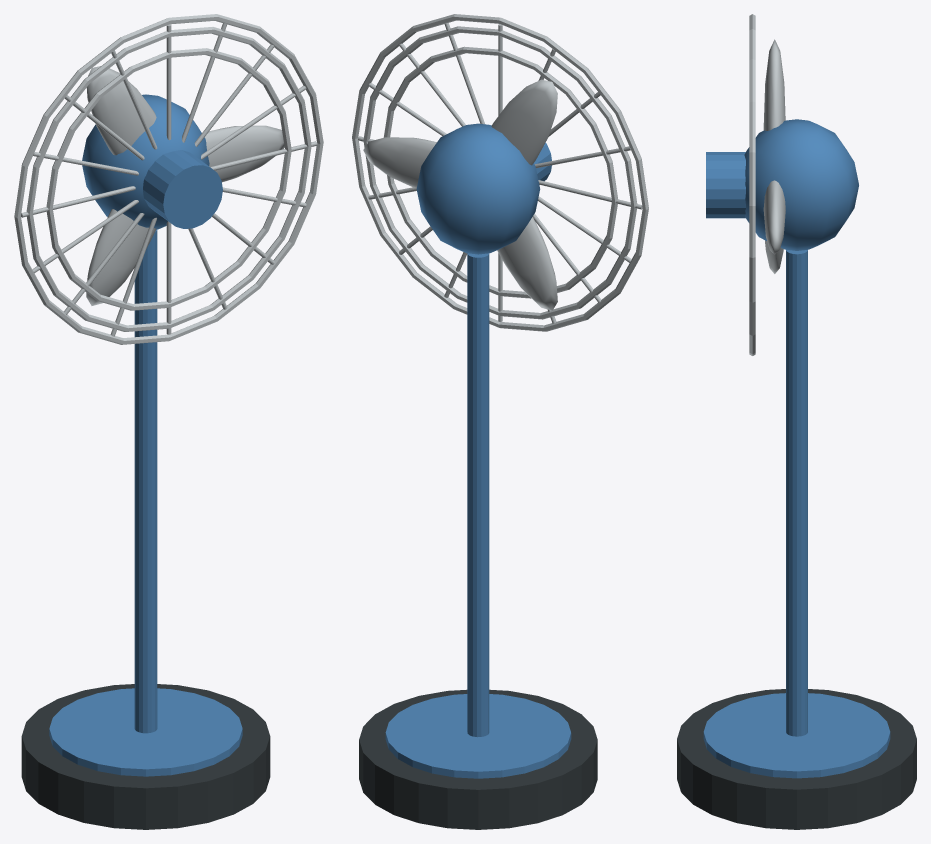
Rendered from standing_fan_blue.glb.
3 views of the same model, side by side, from view 1: azimuth 30°, elevation 25°; view 2: azimuth 150°, elevation 25°; view 3: azimuth 270°, elevation 25° (orthographic). The views are drawn at different scales.
Parts seen in each view (by area): view 1: weighted base, base trim, telescopic pole, wire cage.002, wire cage.001, fan motor, wire cage, hub, blade.001, blade.002, blade, guard spoke.004 (+7 smaller); view 2: weighted base, fan motor, base trim, telescopic pole, wire cage.002, wire cage.001, wire cage, blade.001, blade.002, blade; view 3: weighted base, base trim, telescopic pole, fan motor, hub, wire cage.002, blade.001, blade.
Part boxes in pixels (x1=…): weighted base: x1=21, y1=684, x2=270, y2=829; base trim: x1=49, y1=688, x2=242, y2=776; telescopic pole: x1=134, y1=229, x2=157, y2=733; wire cage.002: x1=14, y1=14, x2=323, y2=344; wire cage.001: x1=26, y1=27, x2=311, y2=331; fan motor: x1=82, y1=94, x2=209, y2=229; wire cage: x1=46, y1=48, x2=291, y2=310; hub: x1=143, y1=150, x2=222, y2=228; blade.001: x1=86, y1=66, x2=156, y2=155; blade.002: x1=86, y1=209, x2=156, y2=305; blade: x1=204, y1=125, x2=284, y2=182; guard spoke.004: x1=166, y1=24, x2=171, y2=140; weighted base: x1=359, y1=689, x2=597, y2=829; fan motor: x1=416, y1=123, x2=540, y2=254; base trim: x1=385, y1=694, x2=571, y2=778; telescopic pole: x1=467, y1=253, x2=489, y2=737; wire cage.002: x1=352, y1=14, x2=648, y2=331; wire cage.001: x1=363, y1=26, x2=637, y2=319; wire cage: x1=383, y1=46, x2=617, y2=298; blade.001: x1=491, y1=79, x2=557, y2=165; blade.002: x1=497, y1=217, x2=557, y2=310; blade: x1=363, y1=137, x2=436, y2=188; weighted base: x1=677, y1=689, x2=916, y2=829; base trim: x1=703, y1=693, x2=890, y2=778; telescopic pole: x1=786, y1=250, x2=807, y2=736; fan motor: x1=744, y1=119, x2=858, y2=250; hub: x1=706, y1=152, x2=745, y2=218; wire cage.002: x1=749, y1=14, x2=755, y2=355; blade.001: x1=763, y1=39, x2=785, y2=130; blade: x1=763, y1=180, x2=785, y2=254.
Bounding box in the file's own units: 0.5623 × 1.35 × 0.3913.
